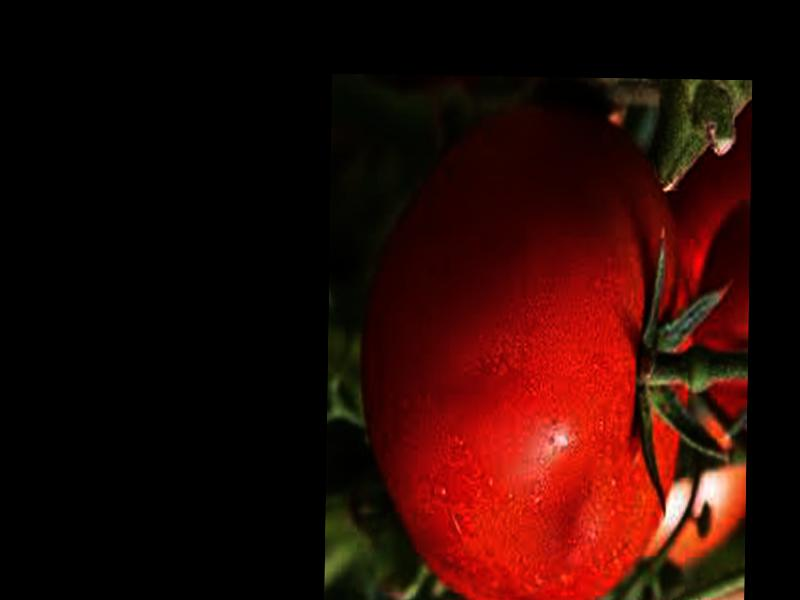Tomato: (360, 104, 693, 600)
